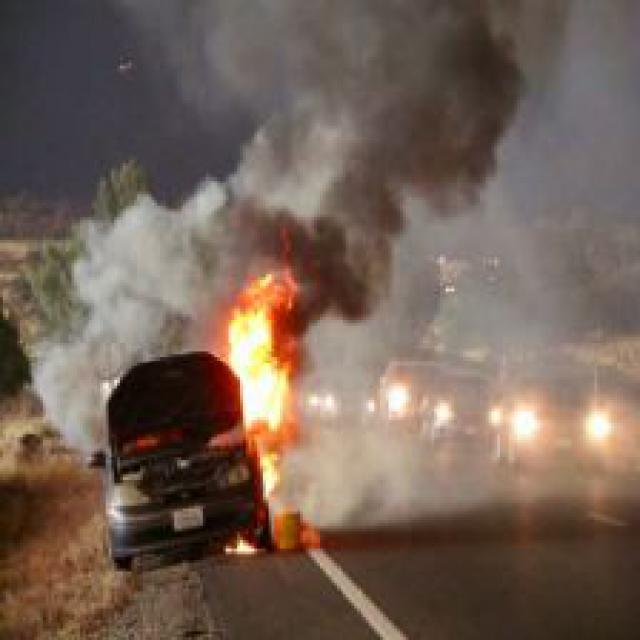fire: (223, 226, 317, 551)
